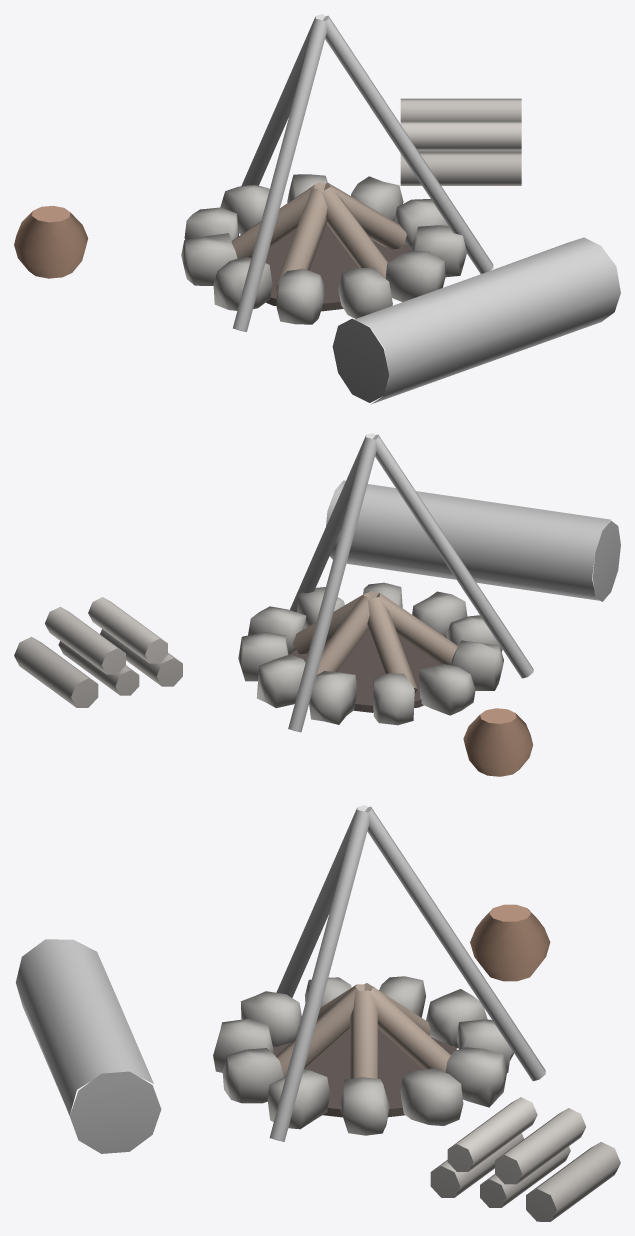
File: hw_campfire.glb
The picture shows the model from 3 angles, top to bottom: view 1: azimuth 30°, elevation 25°; view 2: azimuth 150°, elevation 25°; view 3: azimuth 270°, elevation 25°; orthographic projection. The views are drawn at different scales.
Visible parts, largest first — view 1: Building; view 2: Building; view 3: Building.
Boxes of the visible parts, <box> form: Building: <box>14,14,620,404</box>; Building: <box>14,433,620,776</box>; Building: <box>15,805,620,1221</box>.
Size of the model in its own units: 2.2 by 1.03 by 2.08.
